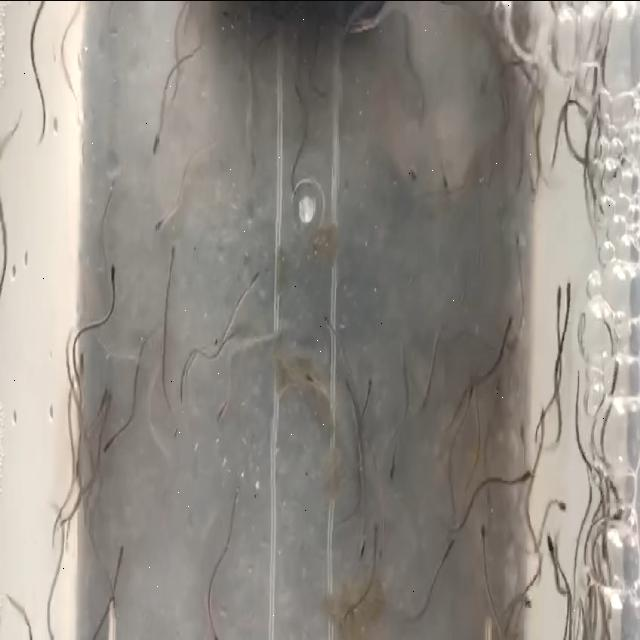active_glass_eel: (432, 154, 452, 191), (148, 113, 161, 166), (536, 400, 552, 442), (502, 308, 517, 350), (74, 351, 88, 394), (152, 210, 170, 242), (106, 264, 122, 298), (101, 392, 116, 428), (321, 313, 339, 343), (548, 488, 568, 514), (116, 540, 130, 576), (355, 527, 369, 563), (405, 151, 419, 187), (463, 384, 477, 420), (478, 522, 491, 560), (364, 366, 376, 407), (96, 382, 108, 422), (214, 394, 230, 424), (368, 518, 380, 558), (560, 278, 572, 318), (516, 462, 533, 490), (542, 532, 556, 564), (248, 260, 260, 296), (552, 281, 564, 315), (102, 436, 116, 464), (518, 586, 535, 608), (168, 238, 178, 274), (300, 370, 322, 386), (388, 452, 398, 487), (208, 624, 222, 640)
